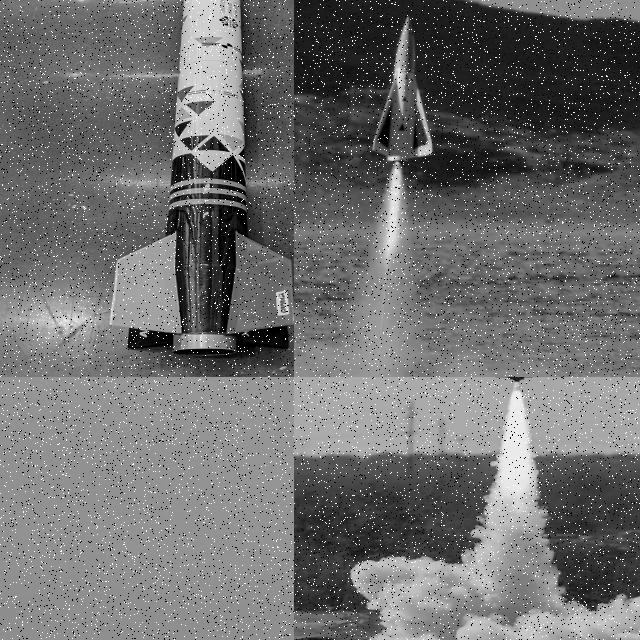Rocket: (109, 0, 294, 356), (370, 15, 436, 163)
